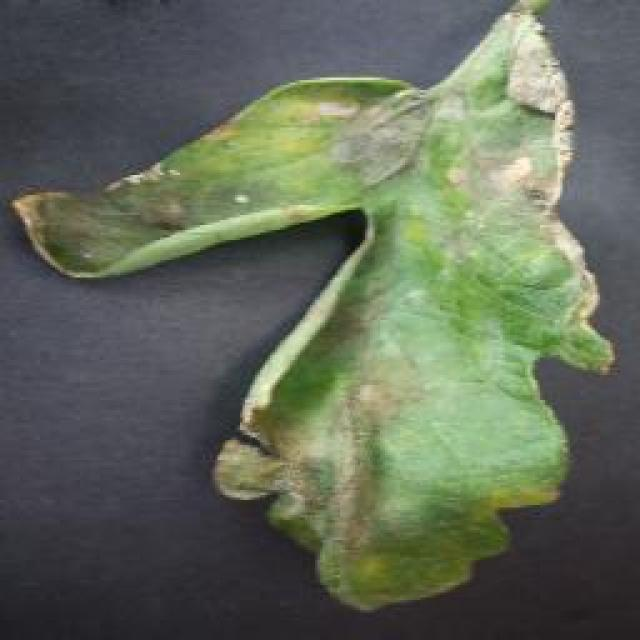Tomato late blight leaf: (20, 10, 610, 605)
